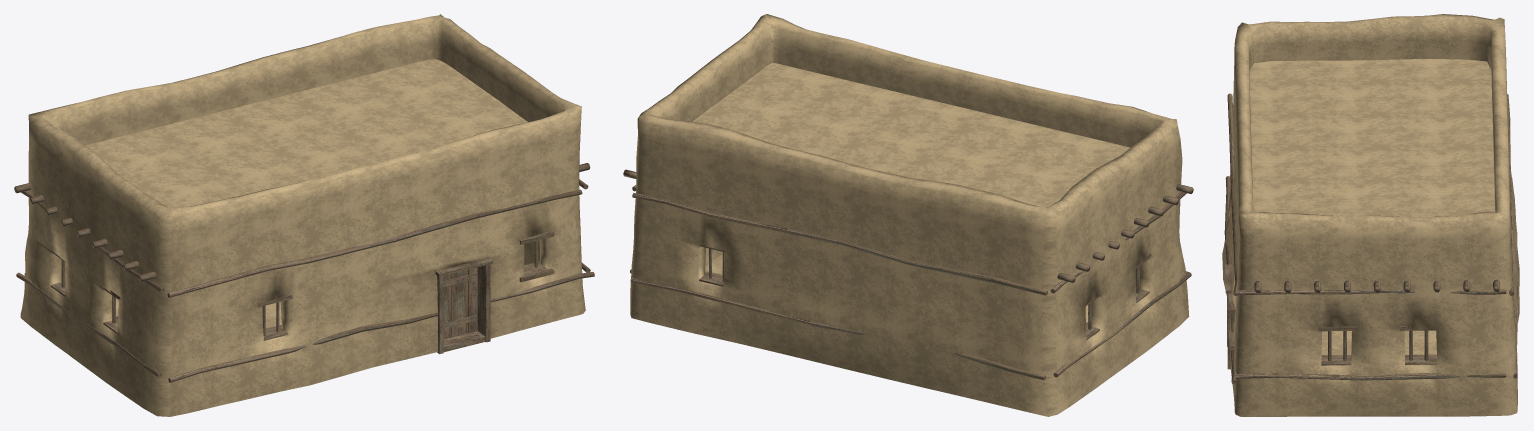
The model's file is egypt_house_002.glb.
3 renders of one model, left to right at view 1: azimuth 30°, elevation 25°; view 2: azimuth 150°, elevation 25°; view 3: azimuth 270°, elevation 25°, orthographic. The views are drawn at different scales.
Visible parts, largest first — view 1: walls, roof; view 2: walls, roof; view 3: roof, walls.
Boxes of the visible parts, box(x1,y1,x2,y2) form: walls: box(14, 153, 594, 416); roof: box(28, 14, 581, 255); walls: box(623, 157, 1193, 416); roof: box(636, 14, 1182, 256); roof: box(1234, 14, 1510, 261); walls: box(1222, 71, 1519, 416).
Size of the model in its own units: 8.11 by 3.52 by 4.7.
Materials: 2 (2 with a texture image).
